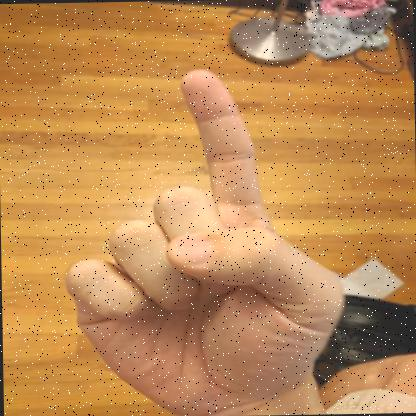D: (64, 69, 352, 416)
